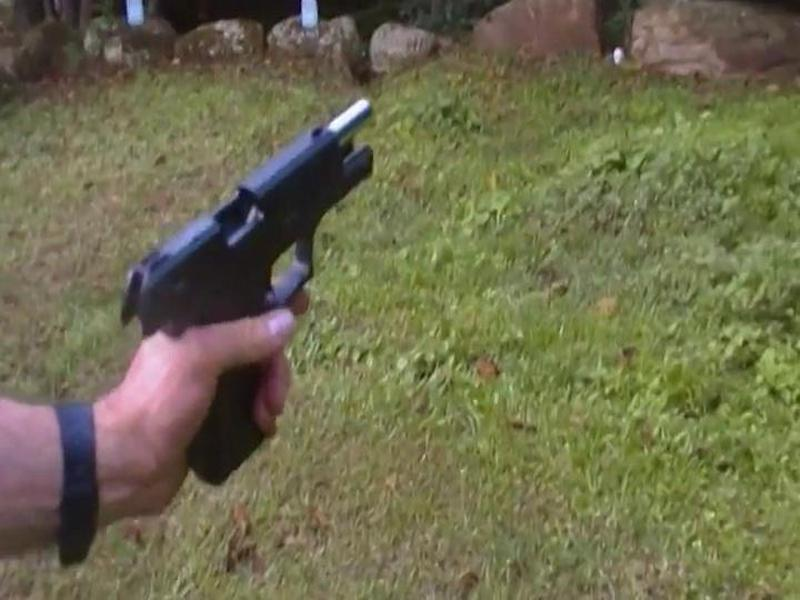Pistola: (121, 114, 405, 497)
